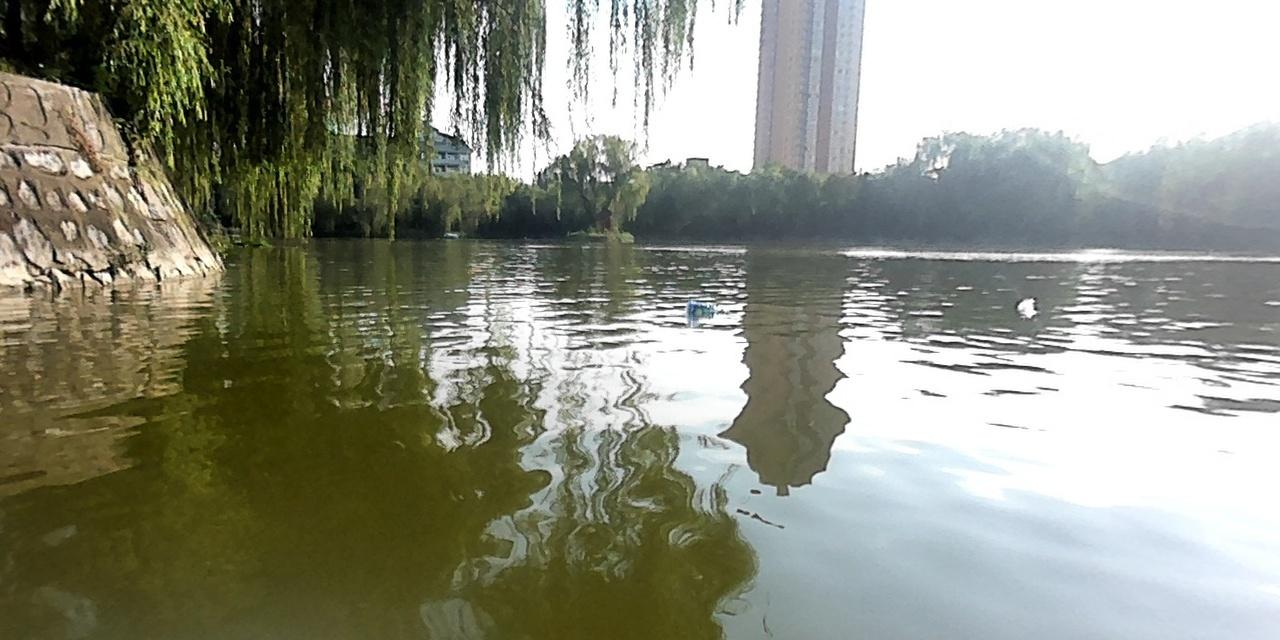bottle: (683, 296, 725, 318), (1013, 294, 1037, 317)
